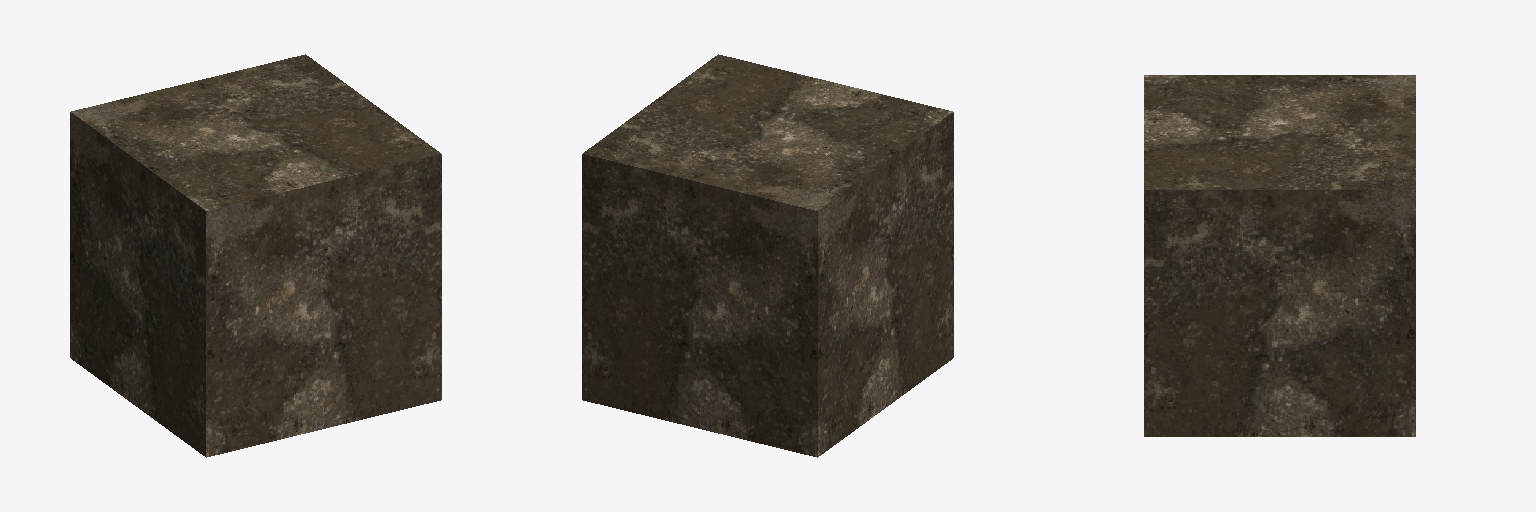
The picture shows the model from 3 angles: view 1: azimuth 30°, elevation 25°; view 2: azimuth 150°, elevation 25°; view 3: azimuth 270°, elevation 25°; orthographic projection.
Visible parts, largest first — view 1: Dirt; view 2: Dirt; view 3: Dirt.
Part boxes in pixels (x1,y1,x2,y2): Dirt: (70,54,441,457); Dirt: (582,54,953,457); Dirt: (1144,75,1415,436).
Bounding box in the file's own units: 2 × 2 × 2.
Materials: 1 (1 with a texture image).